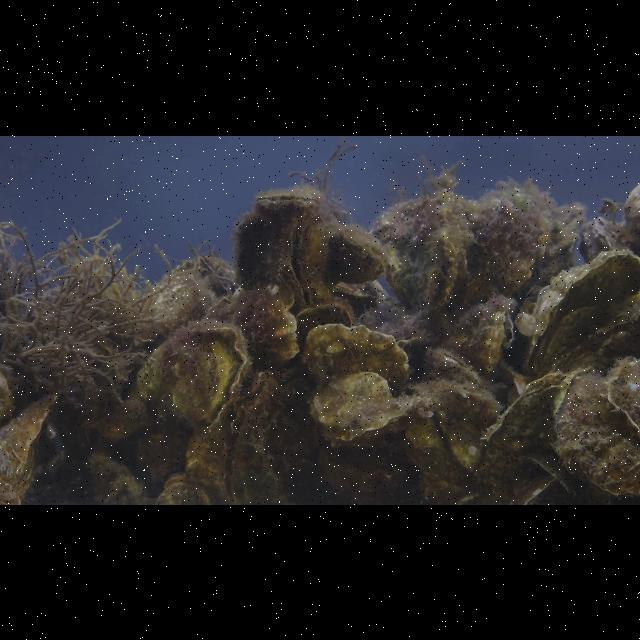Oyster-Closed: (525, 246, 640, 374), (471, 368, 569, 504), (366, 195, 472, 319), (552, 364, 640, 500), (464, 184, 554, 306), (136, 252, 238, 354), (202, 280, 302, 372), (310, 370, 422, 448), (300, 322, 410, 392), (1, 388, 64, 504), (326, 224, 390, 284), (578, 215, 640, 262), (606, 355, 640, 429), (426, 344, 482, 386)
Oyster-Open: (134, 320, 248, 430), (218, 368, 308, 504), (232, 190, 321, 316), (439, 296, 517, 374), (154, 470, 213, 504)
